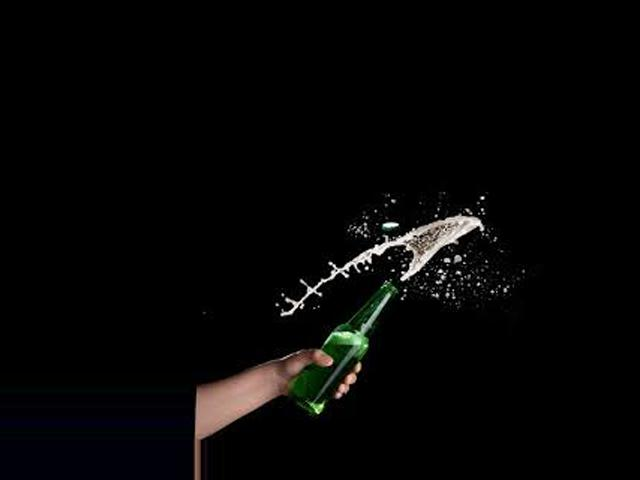beer: (288, 282, 397, 417)
